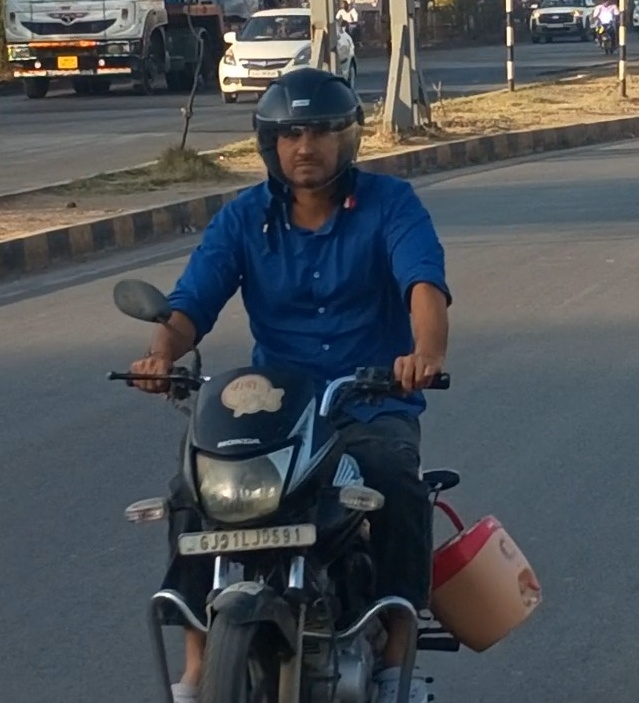BikeWithRider: (99, 59, 552, 702), (585, 0, 624, 59)
Helmet: (242, 60, 373, 209)
